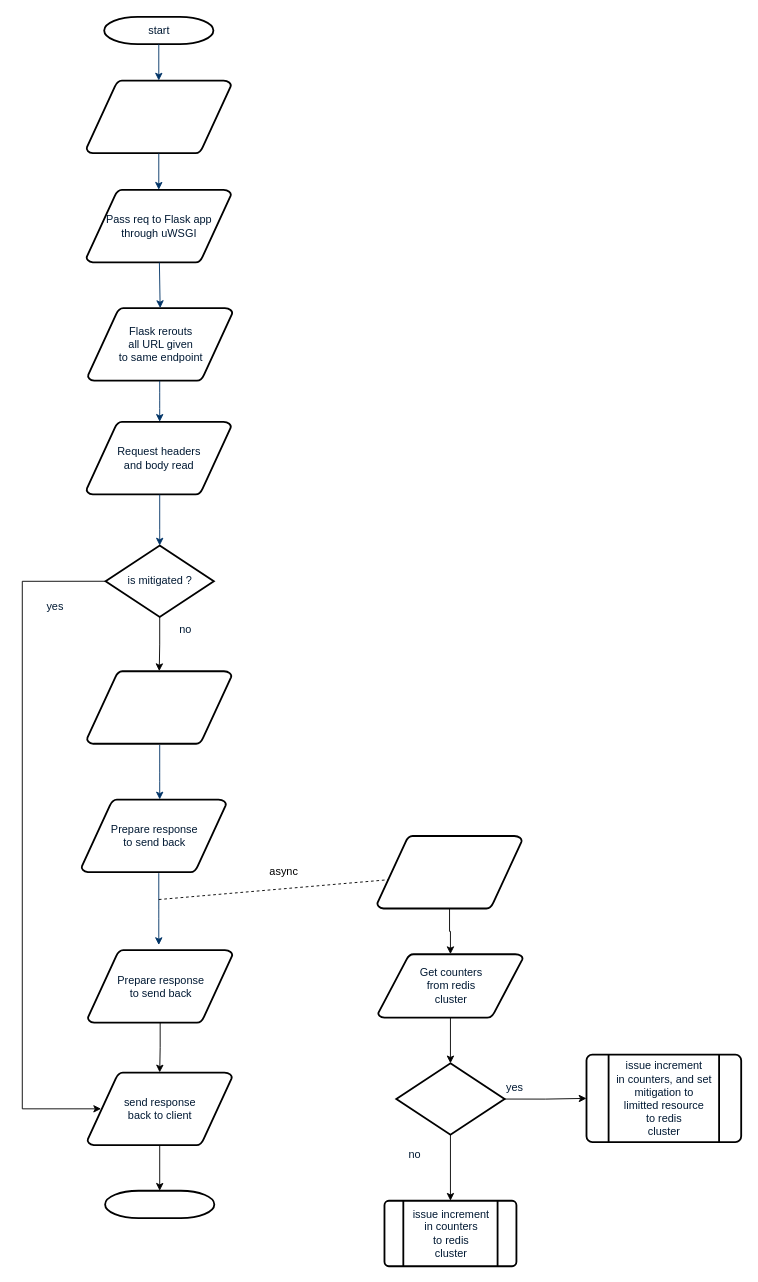
Image size: 758x1282. Some labels were removed from this diagram. The centre of each missing label's shape, as x and y in pixels:
"end" belongs at [159,1203].
"Get limit from local cache" belongs at [449,871].
"Has any limit been reached?" belongs at [450,1098].
"Nginx Server receives req" belongs at [158,116].
"Request to proxied URL" belongs at [159,707].
